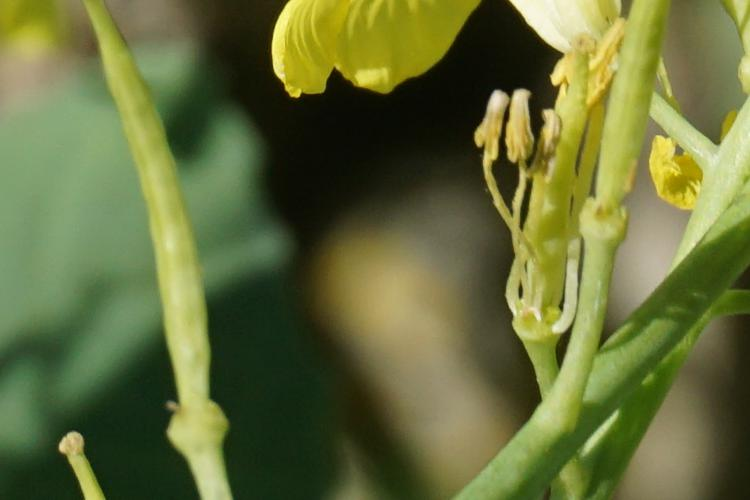yellow: (277, 12, 498, 100)
